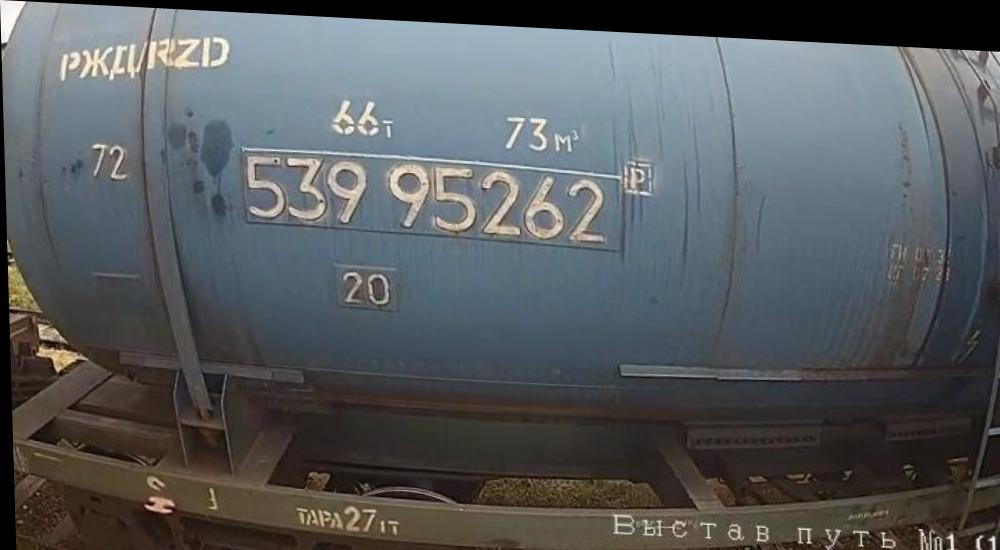Wagon-number: (239, 144, 609, 243)
